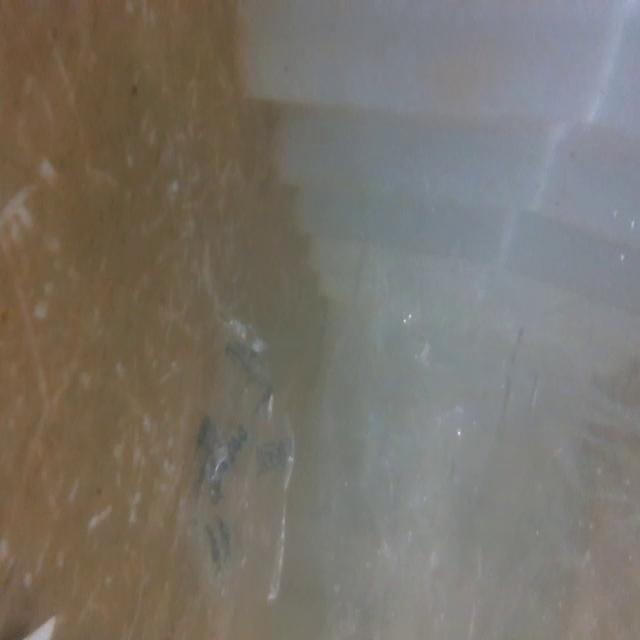plastic bags: (180, 306, 296, 610)
